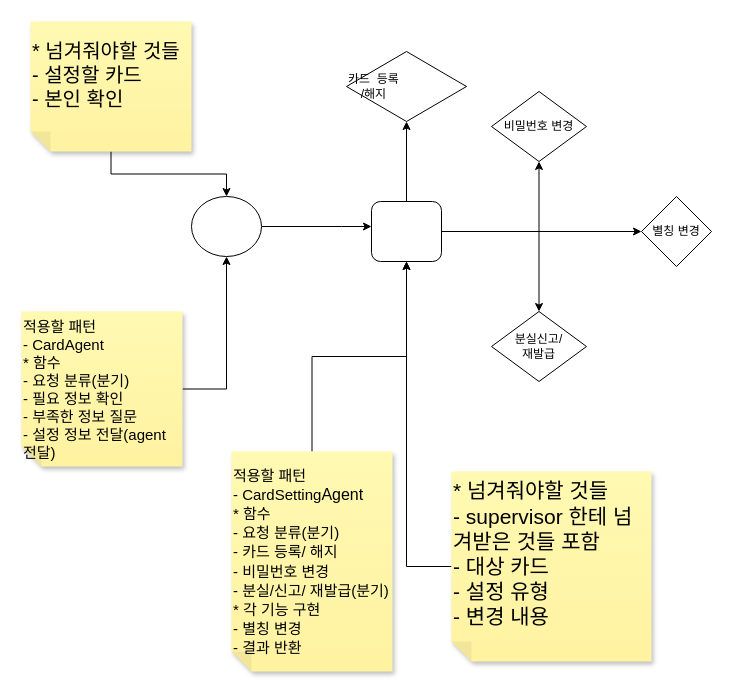
The diagram is 729 pixels wide and 695 high, and some of its shapes have lost their labels. The centre of each missing label's shape, as x and y in pixels:
설정: the point at 406,231
카드: the point at 226,226
